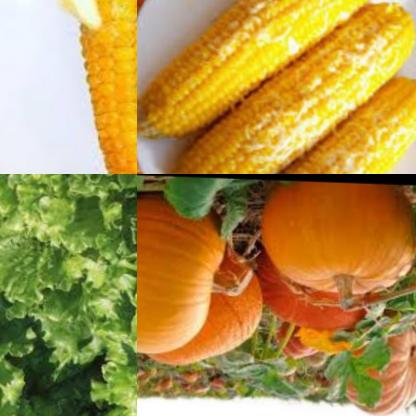corn: (159, 0, 416, 174), (137, 0, 402, 149), (214, 64, 416, 174), (49, 0, 137, 174)
pumpkin: (261, 179, 416, 301), (137, 191, 233, 356), (148, 239, 265, 370), (256, 247, 371, 333), (336, 313, 416, 416), (271, 322, 323, 364)
salad: (0, 174, 137, 416)
